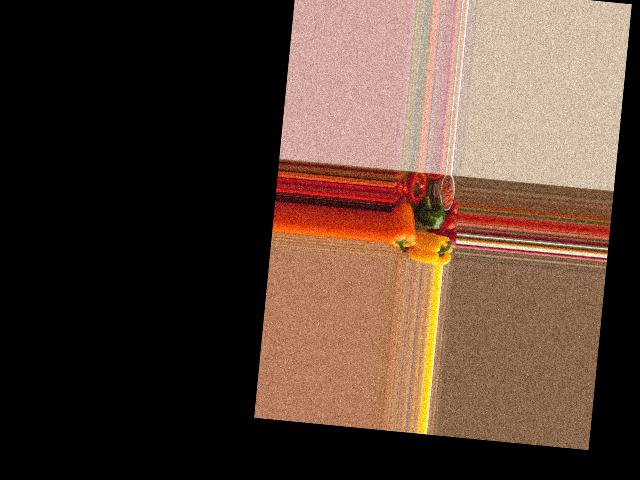bell_pepper: (414, 230, 453, 265)
